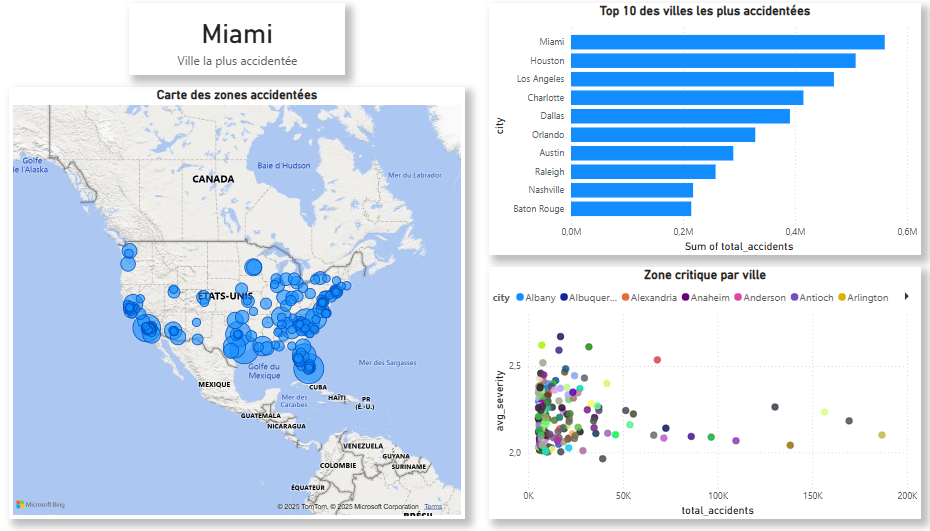

What the dashboard file says about the page in this screenshot:
{"tool":"powerbi","page":{"name":"Page 2","canvas":[1280,720],"ordinal":1},"visuals":[{"type":"map","title":"Carte des zones accidentées","fields":{"Y":["city_hotspots.latitude"],"X":["city_hotspots.longitude"],"Size":["Sum(city_hotspots.total_accidents)"]},"box":[32,128,608,576],"z":0},{"type":"card","fields":{"Values":["city_hotspots.Worst City"]},"box":[192,16,288,96],"z":1000},{"type":"barChart","title":"Top 10 des villes les plus accidentées","fields":{"Category":["city_hotspots.city"],"Y":["Sum(city_hotspots.total_accidents)"]},"box":[672,16,576,336],"z":2000},{"type":"scatterChart","title":"Zone critique par ville","fields":{"X":["city_hotspots.total_accidents"],"Y":["city_hotspots.avg_severity"],"Series":["city_hotspots.city"]},"box":[672,368,576,336],"z":3000}]}

Visuals, with their boxes in screenshot pixels (x1, y1, x2, y2), scaled from the page's 1280x720 canvas onto the 930x531 screenshot:
"Carte des zones accidentées" map: <box>23,94,465,519</box>
card - city_hotspots.Worst City: <box>140,12,349,83</box>
"Top 10 des villes les plus accidentées" barChart: <box>488,12,907,260</box>
"Zone critique par ville" scatterChart: <box>488,271,907,519</box>
